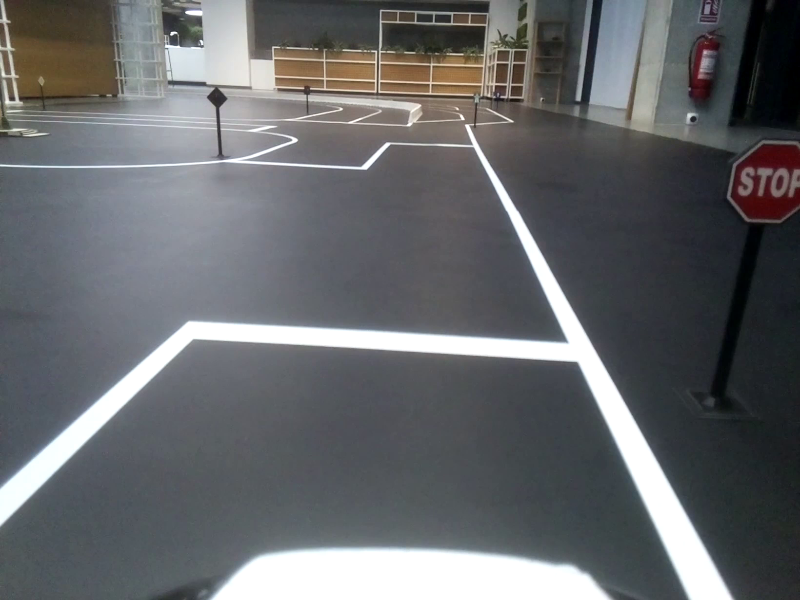stop: (731, 145, 800, 222)
